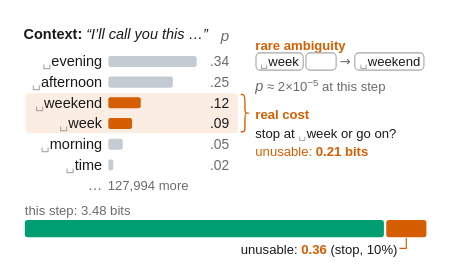
Some shapes in this 450 by 280 pixel diagram are drawn without their labels. The shapes that lost their labels are listed below. From the top down, each one's centre as x and y in pixels, then its label:
At [320,61]: "end".
At [203,228]: "usable with one token history: 3.13".
